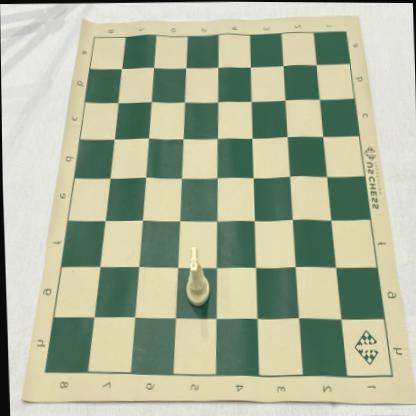white-knight: (182, 246, 209, 307)
